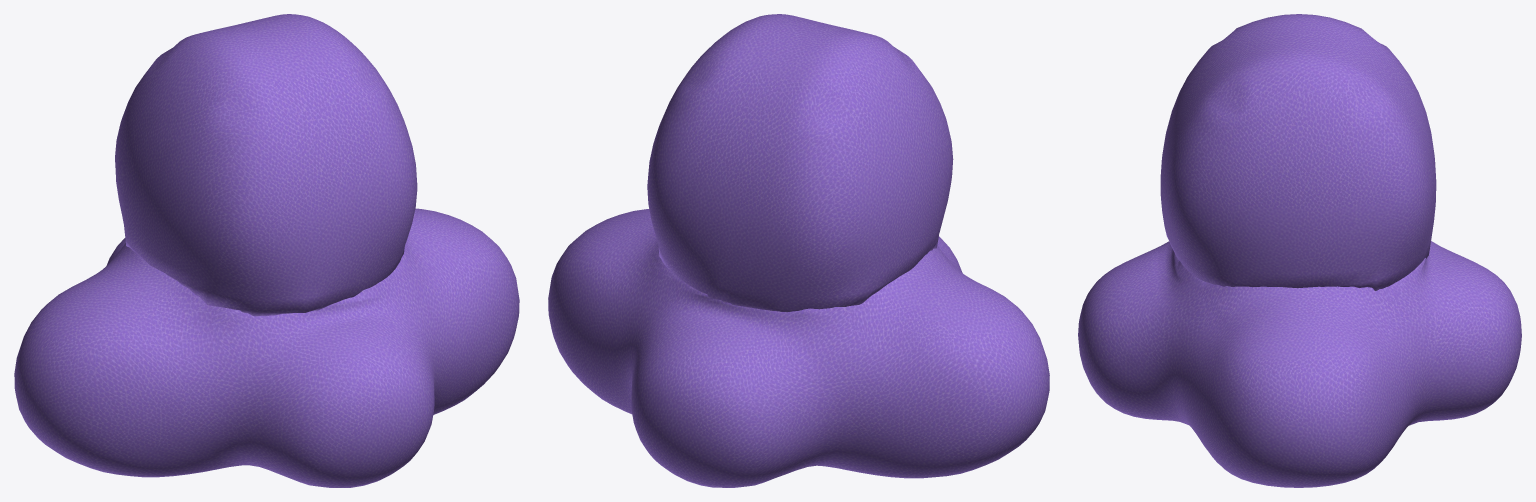
The model's file is objet-01.glb.
3 renders of one model, left to right at view 1: azimuth 30°, elevation 25°; view 2: azimuth 150°, elevation 25°; view 3: azimuth 270°, elevation 25°, orthographic. The views are drawn at different scales.
Parts seen in each view (by area): view 1: Cube.001; view 2: Cube.001; view 3: Cube.001.
Part boxes in pixels (x1,y1,x2,y2): Cube.001: (14, 14, 519, 487); Cube.001: (548, 14, 1049, 487); Cube.001: (1078, 14, 1521, 487).
Size of the model in its own units: 2.04 by 1.56 by 1.72.
1 material, 1 textured.
